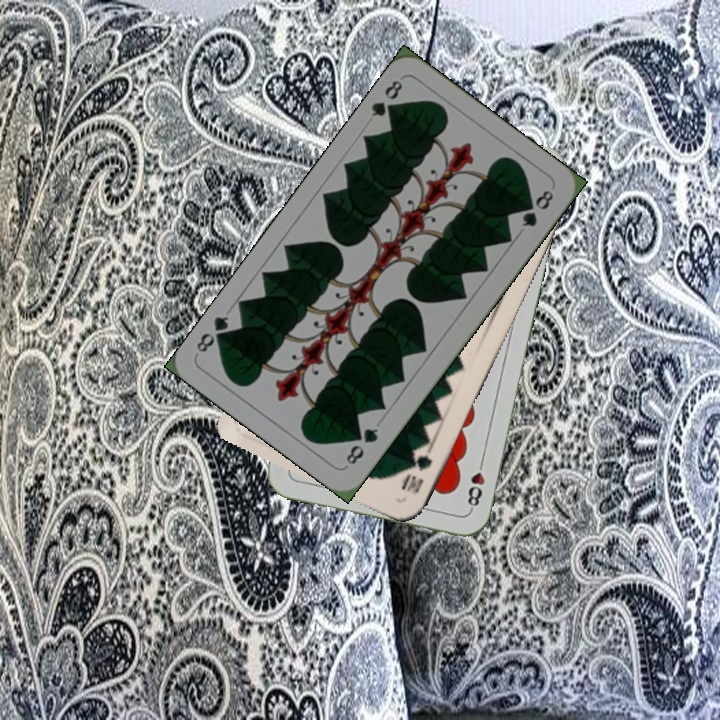G10: (398, 450, 435, 497)
G8: (341, 424, 381, 469), (367, 76, 405, 121)
H8: (463, 454, 487, 513)
